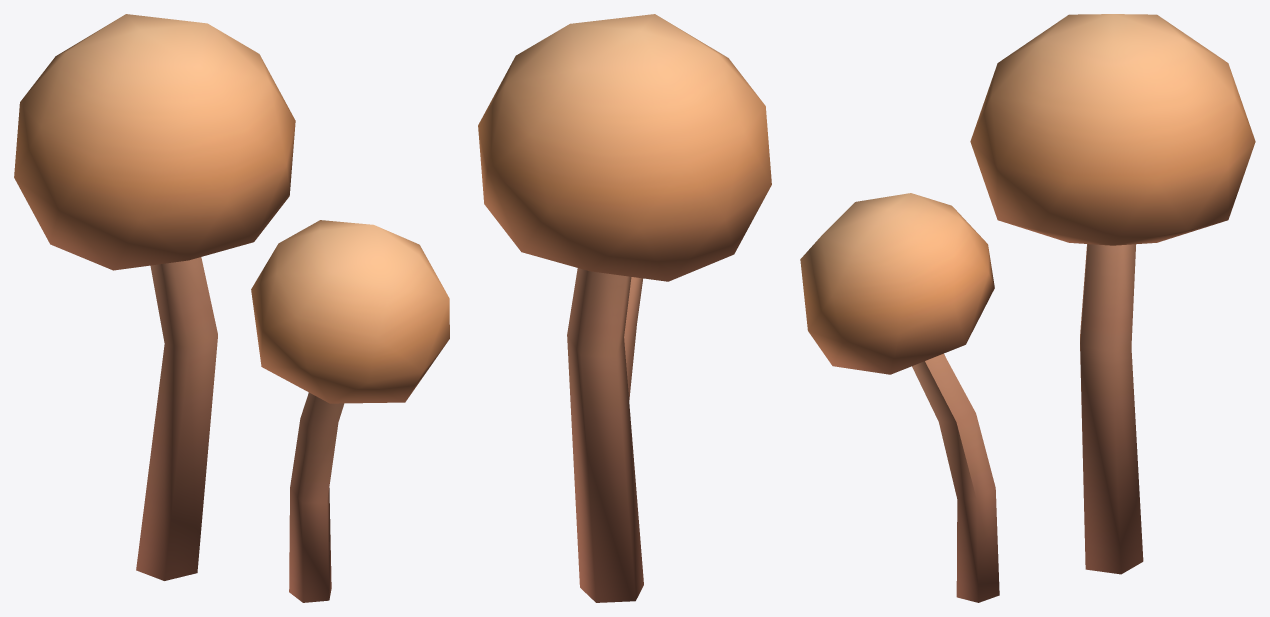
The model's file is mushroom_sphere_2.fbx.
3 renders of one model, left to right at view 1: azimuth 30°, elevation 25°; view 2: azimuth 150°, elevation 25°; view 3: azimuth 270°, elevation 25°, orthographic. The views are drawn at different scales.
Parts seen in each view (by area): view 1: mushroom_sphere_2.001; view 2: mushroom_sphere_2.001; view 3: mushroom_sphere_2.001.
Boxes of the visible parts, x1,y1,x2,y2 form: mushroom_sphere_2.001: (14, 14, 449, 602); mushroom_sphere_2.001: (478, 14, 771, 602); mushroom_sphere_2.001: (800, 14, 1255, 602).
Bounding box in the file's own units: 0.2816 × 0.498 × 0.3844.
